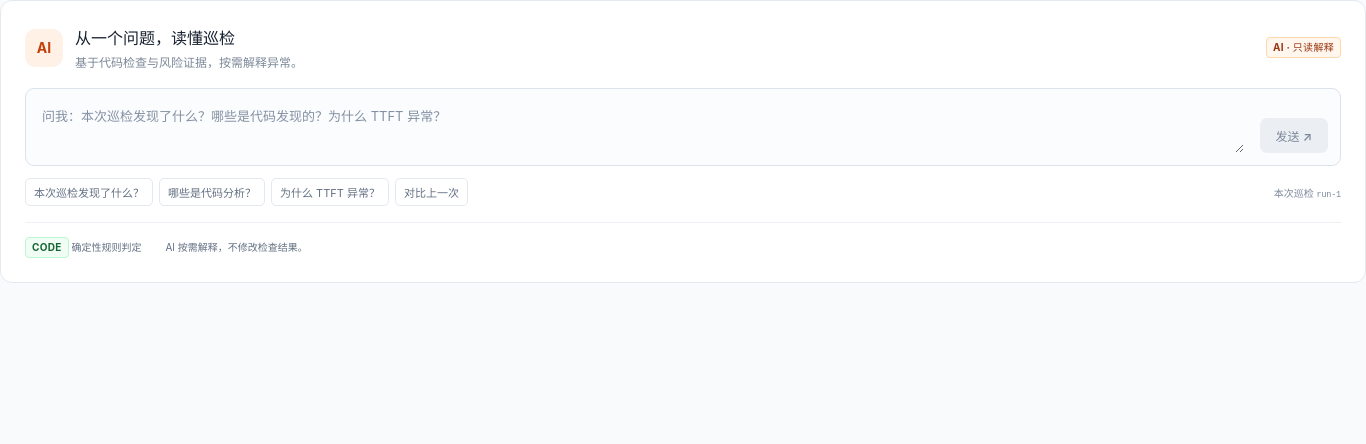
Test: asks about the exact run and shows a labeled AI answer with CODE references
In the text box: point(641, 127) 38,101 -> 1244,153, type "哪些是代码分析？"
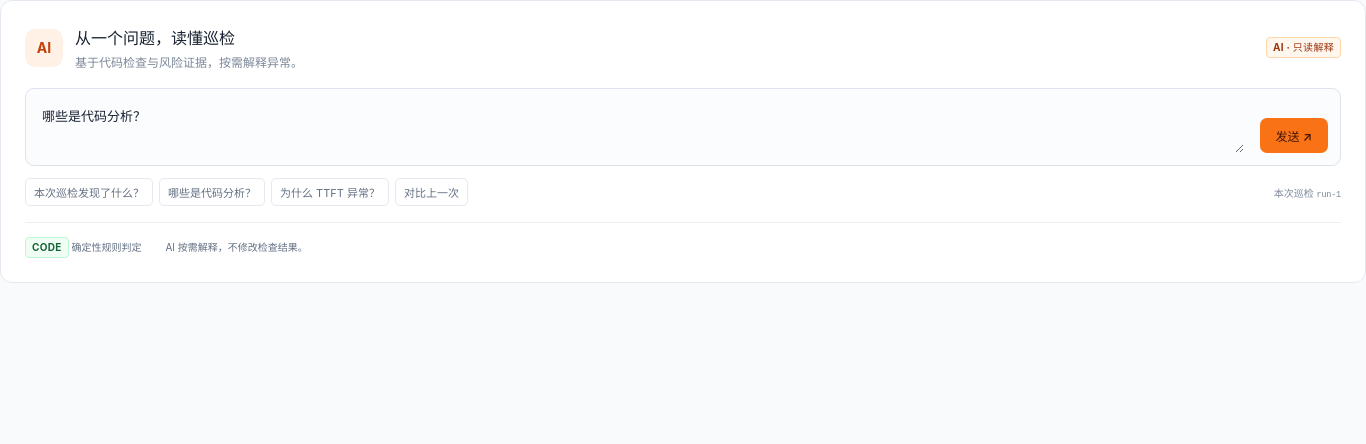
Click the button with aria-label "发送问题": point(1294, 136) 1260,118 -> 1328,153
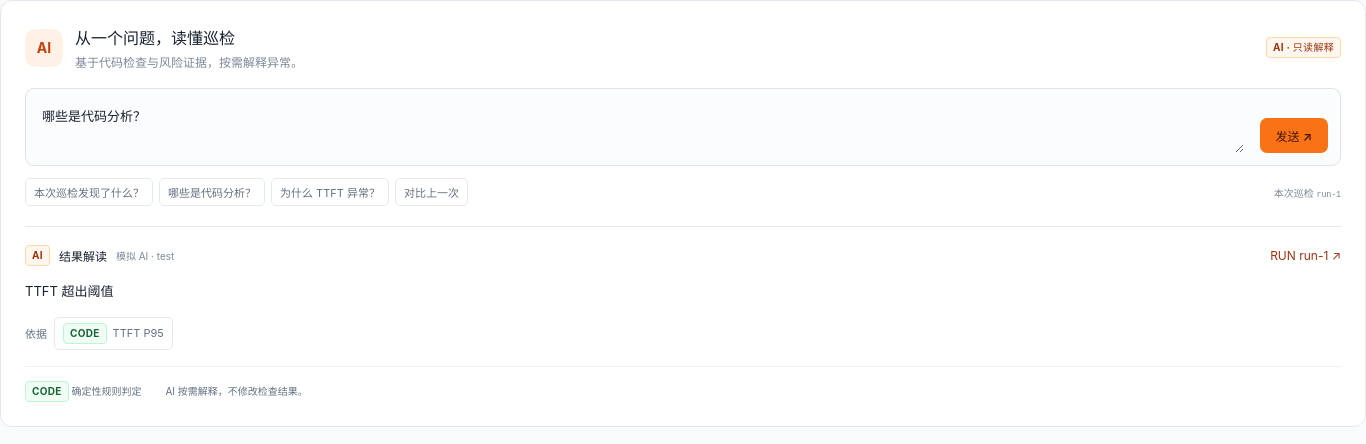
Now the text "TTFT 超出阈值" is shown, box 25,283 -> 114,299
Now the text "CODE" next to "TTFT P95" is shown, box 70,327 -> 100,339
